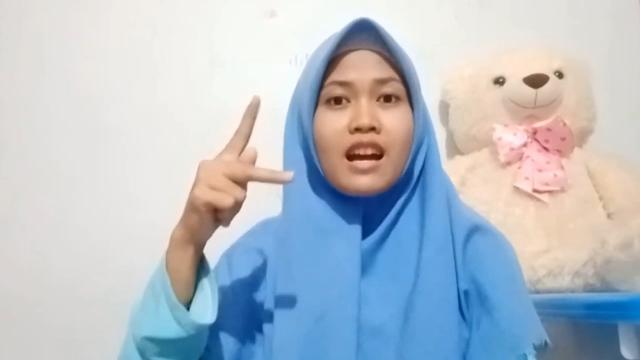K: (178, 94, 298, 236)
